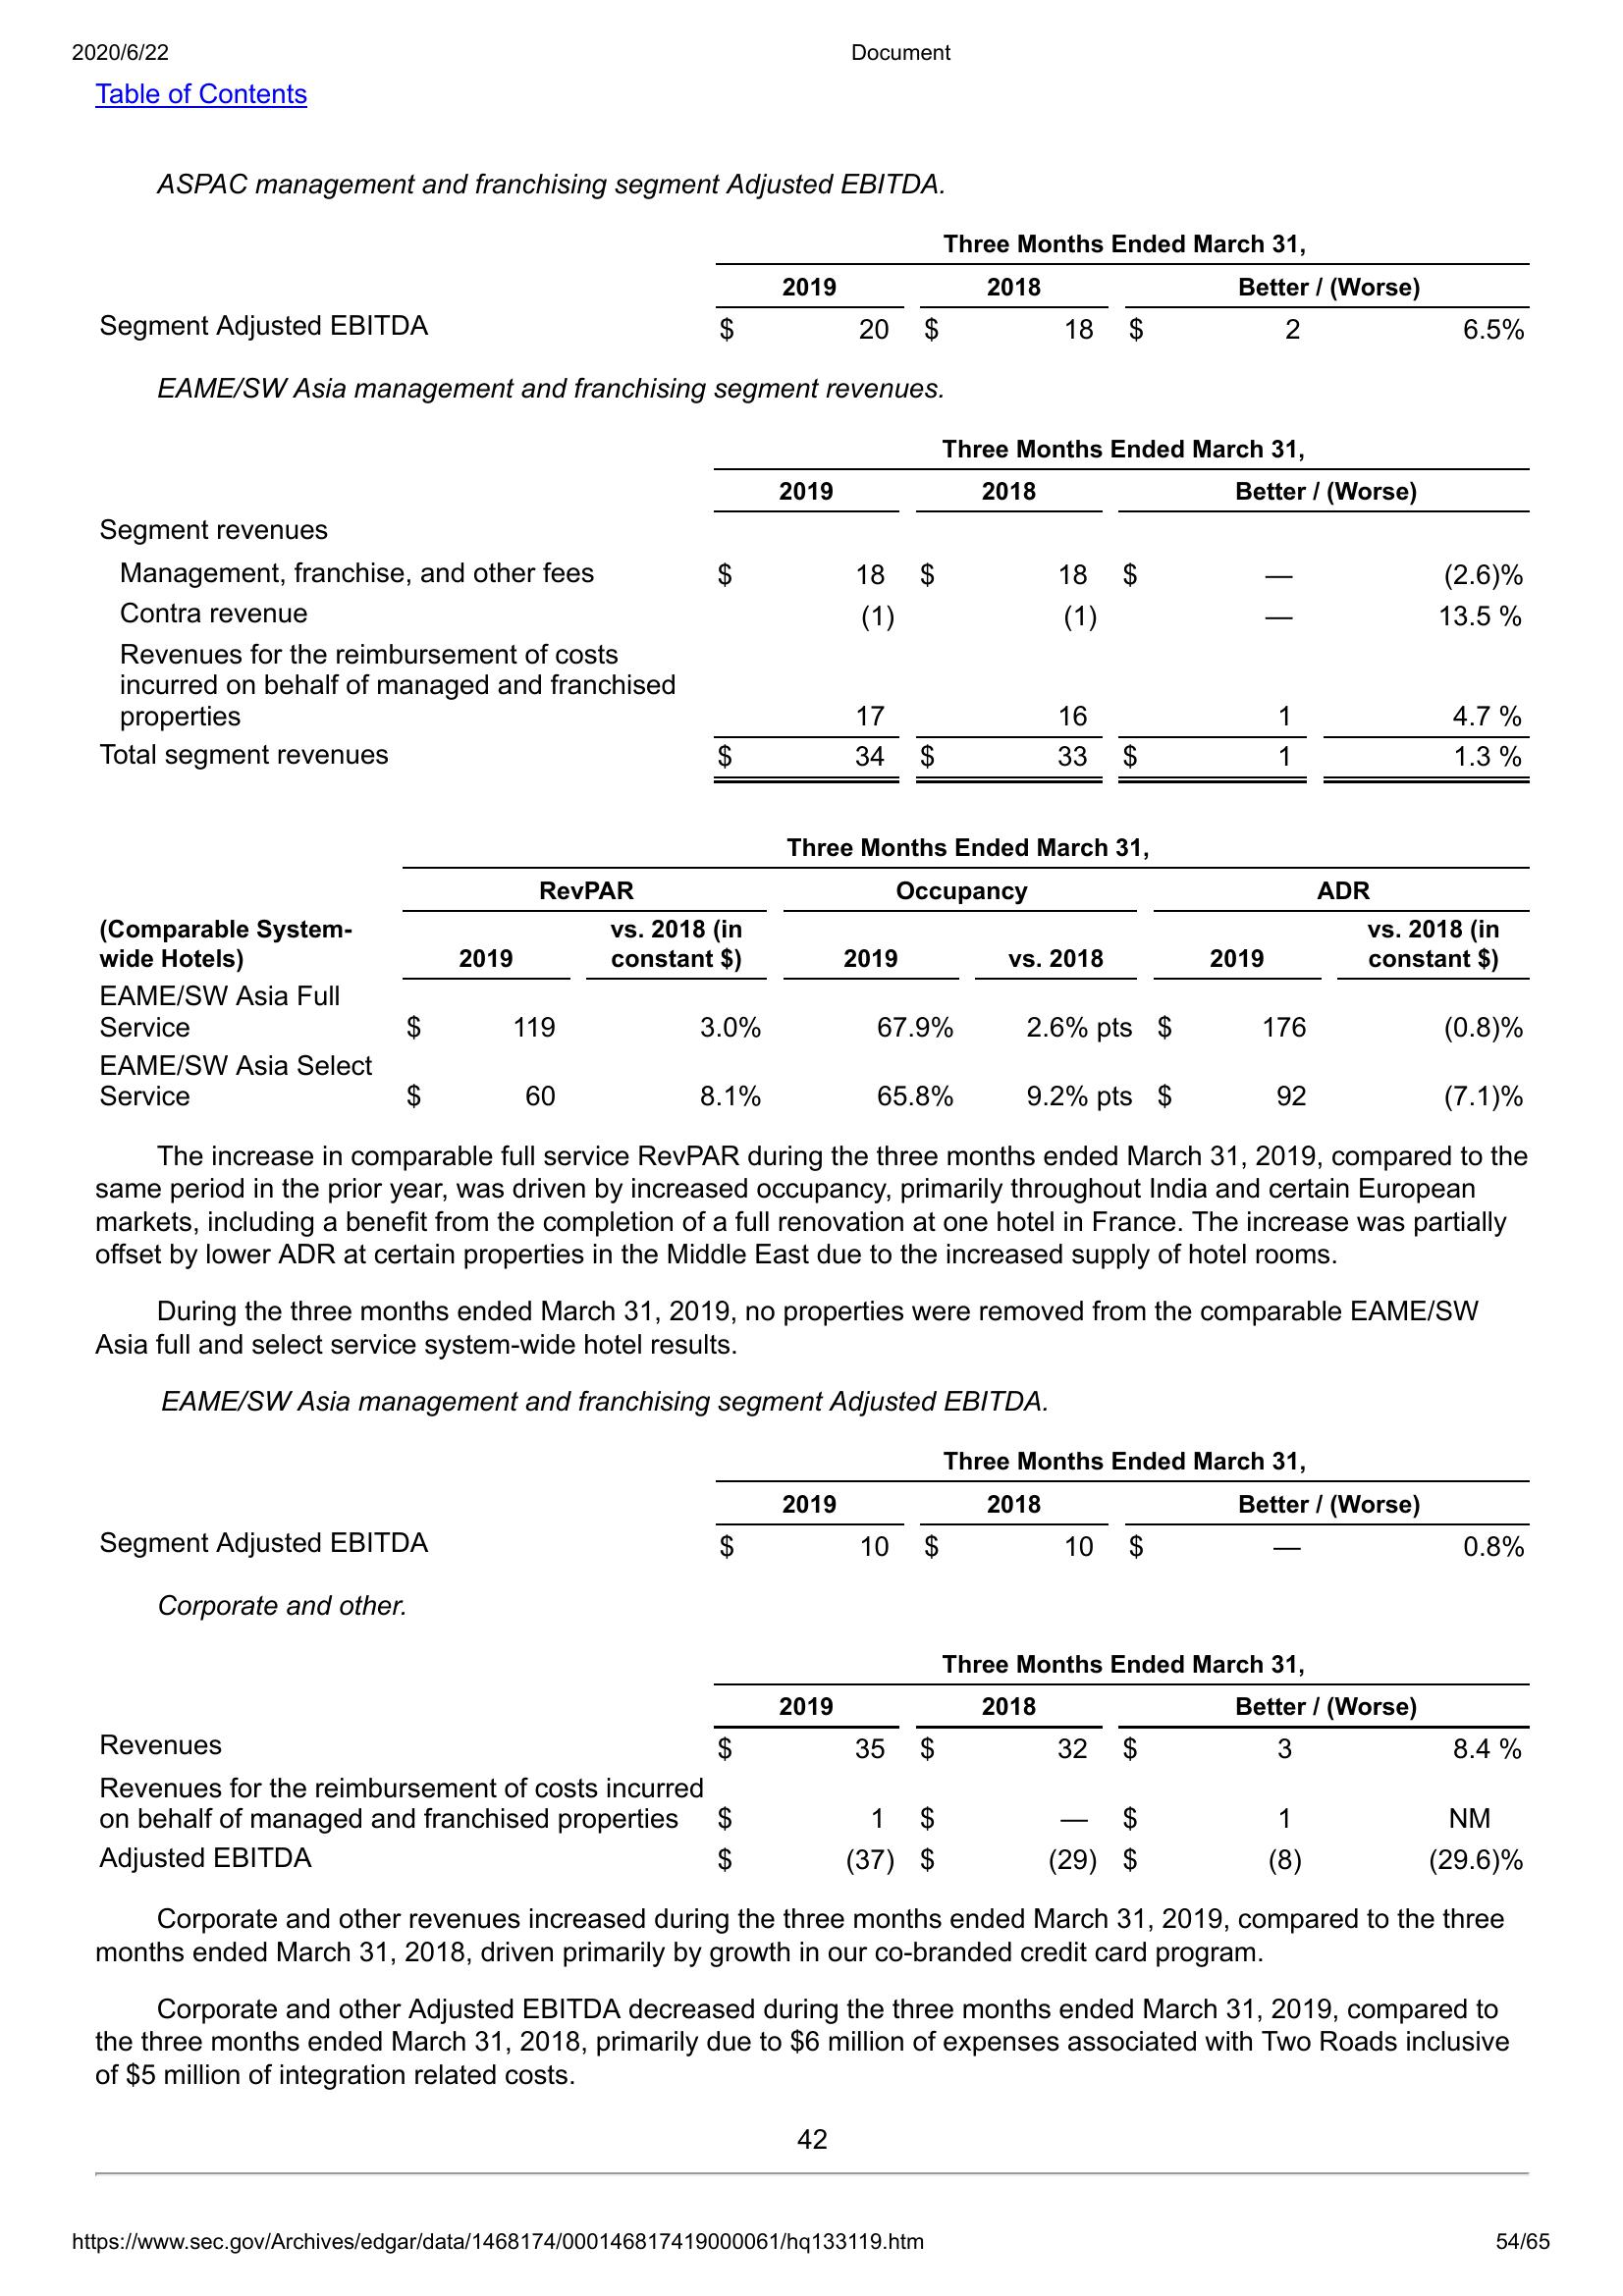table: (91, 428, 1547, 792), (91, 834, 1542, 1122), (97, 1645, 1542, 1885), (95, 221, 1540, 407), (88, 1445, 1540, 1624)
